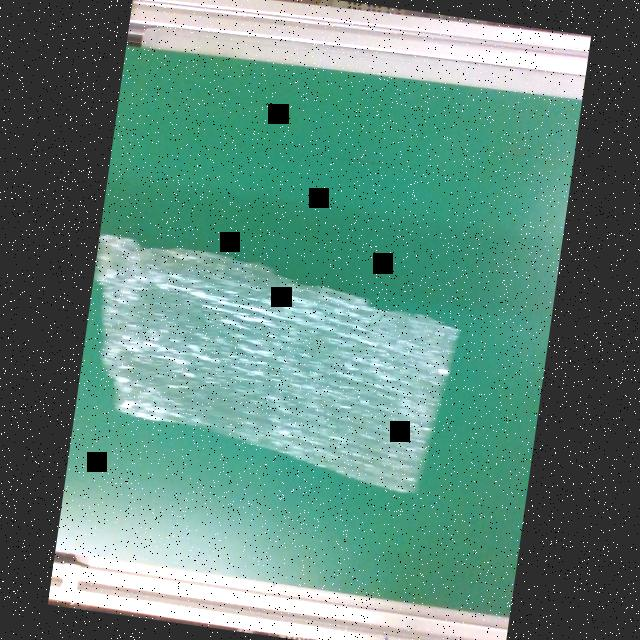scrap_plastic: (70, 222, 472, 509)
